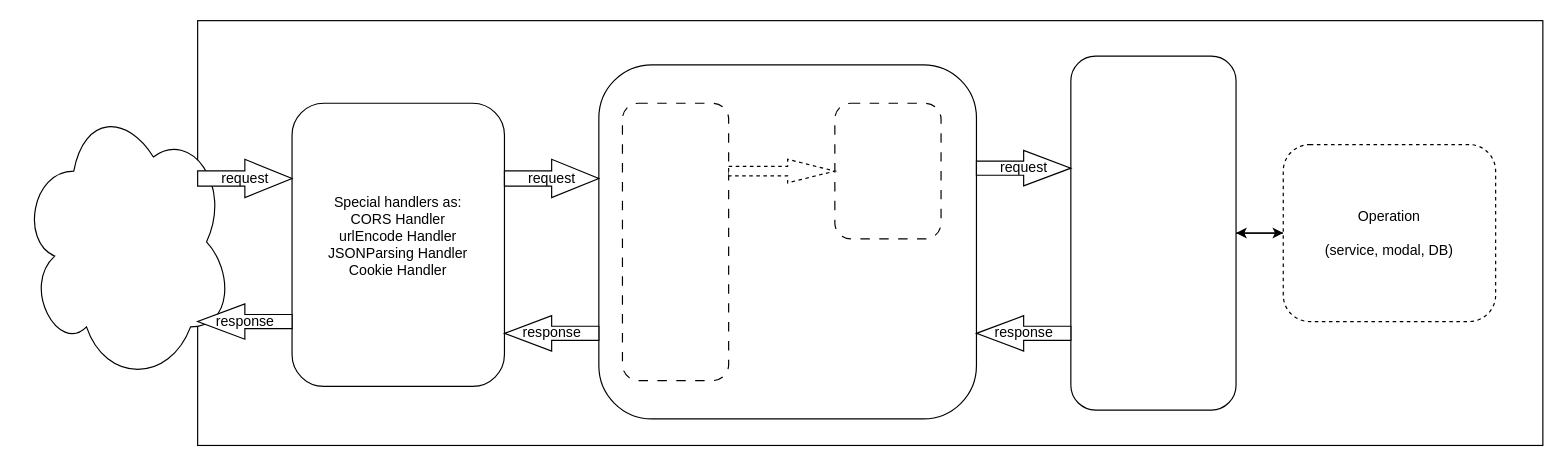
Image size: 1563x466. Some labels were removed from this diagram. Each missing label, with the centre of its shape:
"Controller" goes at pixel 1153 232.
"Global Filtes (Handlers)" goes at pixel 675 241.
"Internet" goes at pixel 126 241.
"Special Filter s (Hanlders)" goes at pixel 887 170.
